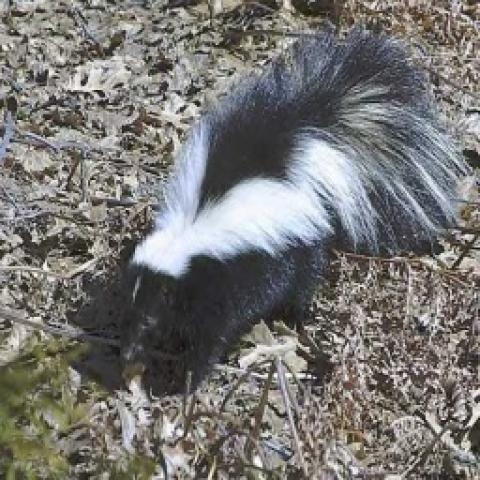small_animal: (114, 22, 476, 402)
